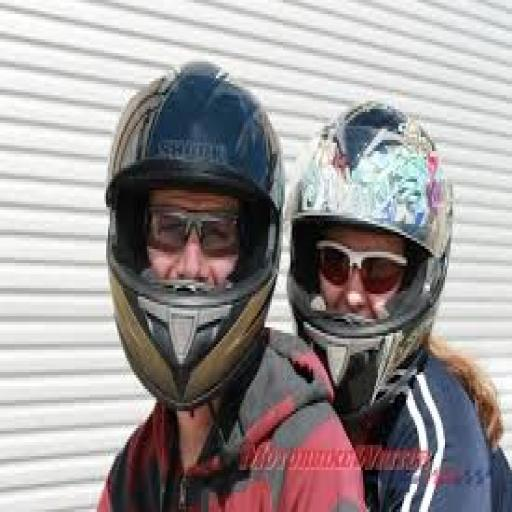helmet: (102, 59, 285, 408)
